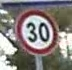limite 30: (13, 6, 59, 55)
